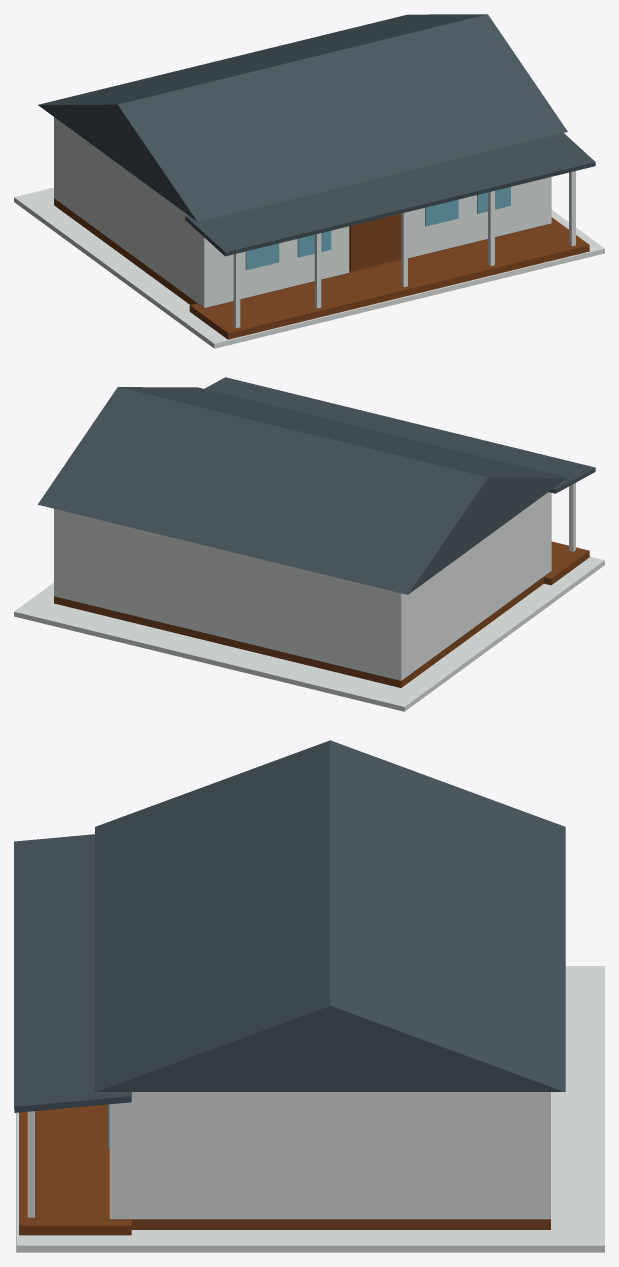
The picture shows the model from 3 angles, top to bottom: view 1: azimuth 30°, elevation 25°; view 2: azimuth 150°, elevation 25°; view 3: azimuth 270°, elevation 25°; orthographic projection. The views are drawn at different scales.
Parts seen in each view (by area): view 1: ROOF_Main, VERANDA_Roof, VERANDA_Deck, SIDE_Wall, SITE, FRONT_Wall, FRONT_Wall.001, ENTRY_Door, HOUSE_Floor, FRONT_Window, FRONT_Window.002, VERANDA_Post.001 (+6 smaller); view 2: ROOF_Main, BACK_Wall, SITE, SIDE_Wall, VERANDA_Roof, HOUSE_Floor, VERANDA_Deck, VERANDA_Post; view 3: ROOF_Main, SIDE_Wall.001, SITE, VERANDA_Roof, VERANDA_Deck, HOUSE_Floor, FRONT_Wall.001, VERANDA_Post.004.
Boxes of the visible parts, <box> form: ROOF_Main: <box>38,14,567,221</box>; VERANDA_Roof: <box>185,133,595,256</box>; VERANDA_Deck: <box>189,217,589,339</box>; SIDE_Wall: <box>54,117,209,307</box>; SITE: <box>14,187,604,348</box>; FRONT_Wall: <box>201,226,348,307</box>; FRONT_Wall.001: <box>408,177,551,258</box>; ENTRY_Door: <box>350,213,401,271</box>; HOUSE_Floor: <box>54,198,551,308</box>; FRONT_Window: <box>245,243,279,270</box>; FRONT_Window.002: <box>425,199,458,226</box>; VERANDA_Post.001: <box>314,233,321,308</box>; ROOF_Main: <box>38,387,567,594</box>; BACK_Wall: <box>57,509,398,679</box>; SITE: <box>14,556,604,711</box>; SIDE_Wall: <box>395,492,551,680</box>; VERANDA_Roof: <box>204,377,595,493</box>; HOUSE_Floor: <box>54,571,551,687</box>; VERANDA_Deck: <box>544,541,589,585</box>; VERANDA_Post: <box>569,483,575,551</box>; ROOF_Main: <box>95,740,565,1091</box>; SIDE_Wall.001: <box>109,1092,550,1219</box>; SITE: <box>16,966,604,1252</box>; VERANDA_Roof: <box>14,834,131,1112</box>; VERANDA_Deck: <box>19,1104,131,1235</box>; HOUSE_Floor: <box>109,1219,550,1229</box>; FRONT_Wall.001: <box>109,1103,119,1219</box>; VERANDA_Post.004: <box>27,1111,34,1217</box>.
Bounding box in the file's own units: 13.5 × 5.4 × 12.05.
